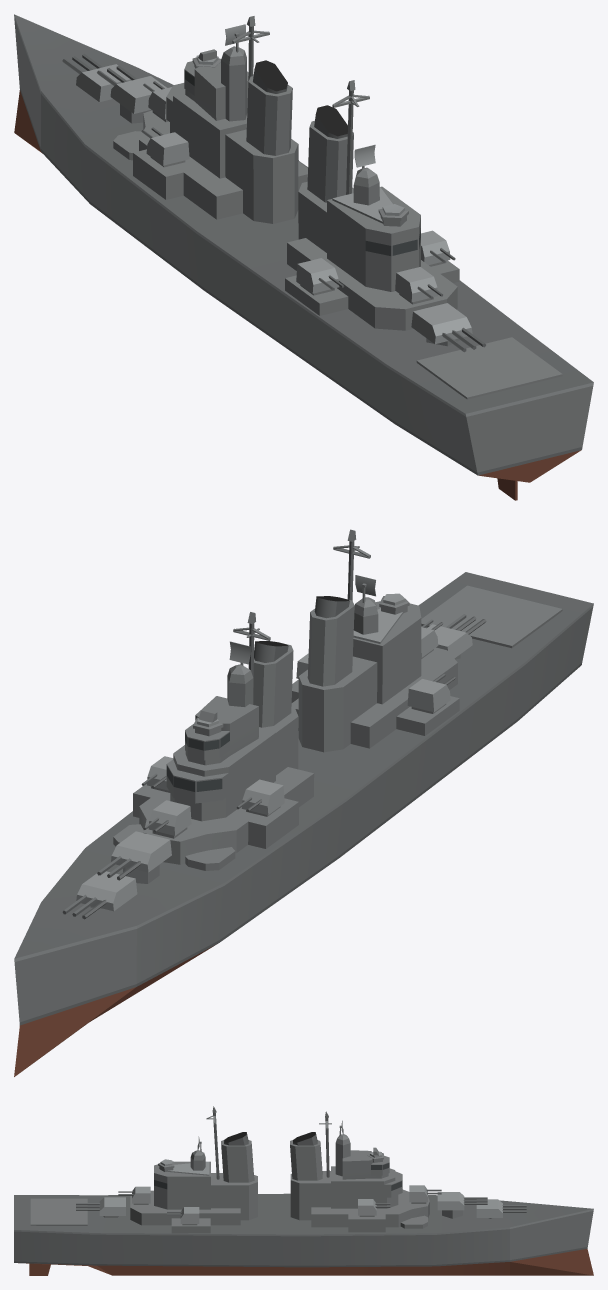
The model's file is Крейсер (тонет).fbx.
3 renders of one model, top to bottom at view 1: azimuth 30°, elevation 25°; view 2: azimuth 150°, elevation 25°; view 3: azimuth 270°, elevation 25°, orthographic. The views are drawn at different scales.
Parts seen in each view (by area): view 1: Крейсер_тонет; view 2: Крейсер_тонет; view 3: Крейсер_тонет.
Part boxes in pixels (x1=…): Крейсер_тонет: x1=14, y1=14, x2=593, y2=500; Крейсер_тонет: x1=14, y1=529, x2=593, y2=1076; Крейсер_тонет: x1=14, y1=1106, x2=593, y2=1275.
Bounding box in the file's own units: 0.9845 × 1.88 × 5.85.
